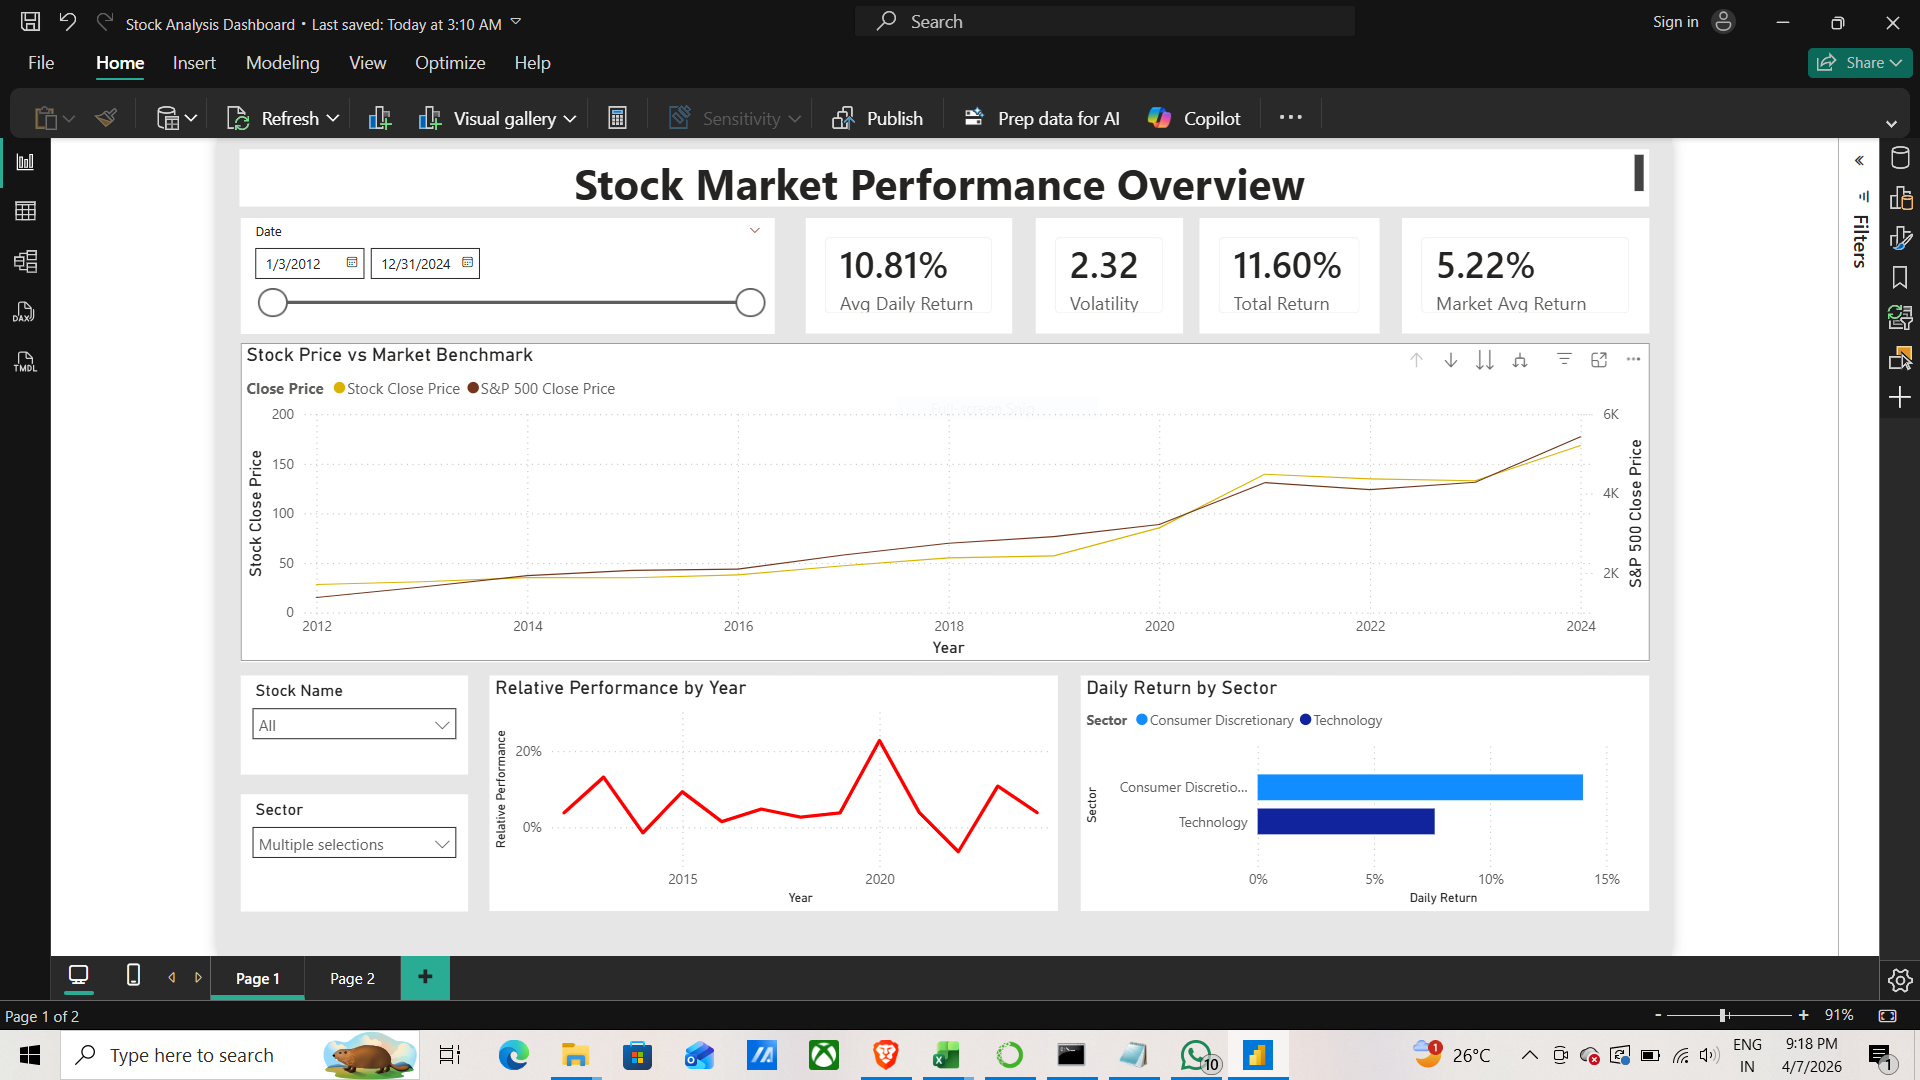

This screenshot's page, from the dashboard's own definition file:
{"tool":"powerbi","page":{"name":"Page 1","canvas":[1280,720],"ordinal":0},"visuals":[{"type":"textbox","box":[20,10,1240,50],"z":0},{"type":"slicer","fields":{"Values":["Dim_Date.Date"]},"box":[20.6,70.2,469.7,101.7],"z":1000},{"type":"slicer","title":"Stock Name","fields":{"Values":["Dim_Stock.Stock_Name"]},"box":[20.6,473.3,199.7,87.2],"z":2000},{"type":"slicer","fields":{"Values":["Dim_Stock.Sector"]},"box":[20.6,577.4,199.7,102.9],"z":3000},{"type":"lineChart","title":"Stock Price vs Market Benchmark","fields":{"Category":["Dim_Date.Date.Variation.Date Hierarchy.Year","Dim_Date.Date.Variation.Date Hierarchy.Quarter","Dim_Date.Date.Variation.Date Hierarchy.Month","Dim_Date.Date.Variation.Date Hierarchy.Day"],"Y":["Avg(Fact_StockPrices.Close_Price)"],"Y2":["Avg(Fact_SP500.Close_Price)"]},"box":[20.6,180.4,1239.5,280.8],"z":4000},{"type":"lineChart","fields":{"Category":["Dim_Date.Date.Variation.Date Hierarchy.Year","Dim_Date.Date.Variation.Date Hierarchy.Quarter","Dim_Date.Date.Variation.Date Hierarchy.Month","Dim_Date.Date.Variation.Date Hierarchy.Day"],"Y":["Measure.Relative Performance"]},"box":[239.7,473.3,499.9,207],"z":5000},{"type":"barChart","title":"Daily Return by Sector","fields":{"Category":["Dim_Stock.Sector"],"Y":["Measure.Avg Daily Return"],"Series":["Dim_Stock.Sector"]},"box":[760.2,473.3,499.9,207],"z":6000},{"type":"cardVisual","fields":{"Data":["Measure.Avg Daily Return"]},"box":[518.1,70.2,181.6,101.7],"z":7000},{"type":"cardVisual","fields":{"Data":["Measure.Volatility"]},"box":[720.2,70.2,129.5,101.7],"z":8000},{"type":"cardVisual","fields":{"Data":["Measure.Total Return"]},"box":[864.3,70.2,158.6,101.7],"z":9000},{"type":"cardVisual","fields":{"Data":["Measure.Market Avg Return"]},"box":[1042.2,70.2,217.9,101.7],"z":10000}]}

Visuals, with their boxes on the page's 1280x720 design canvas (x1, y1, x2, y2). These are canvas units, not pixel positions in the 1920x1080 screenshot, which may show the page scaled, cropped or inside an application window:
textbox: rect(20, 10, 1260, 60)
slicer - Dim_Date.Date: rect(21, 70, 490, 172)
"Stock Name" slicer: rect(21, 473, 220, 560)
slicer - Dim_Stock.Sector: rect(21, 577, 220, 680)
"Stock Price vs Market Benchmark" lineChart: rect(21, 180, 1260, 461)
lineChart - Dim_Date.Date.Variation.Date Hierarchy.Year x Dim_Date.Date.Variation.Date Hierarchy.Quarter: rect(240, 473, 740, 680)
"Daily Return by Sector" barChart: rect(760, 473, 1260, 680)
cardVisual - Measure.Avg Daily Return: rect(518, 70, 700, 172)
cardVisual - Measure.Volatility: rect(720, 70, 850, 172)
cardVisual - Measure.Total Return: rect(864, 70, 1023, 172)
cardVisual - Measure.Market Avg Return: rect(1042, 70, 1260, 172)
